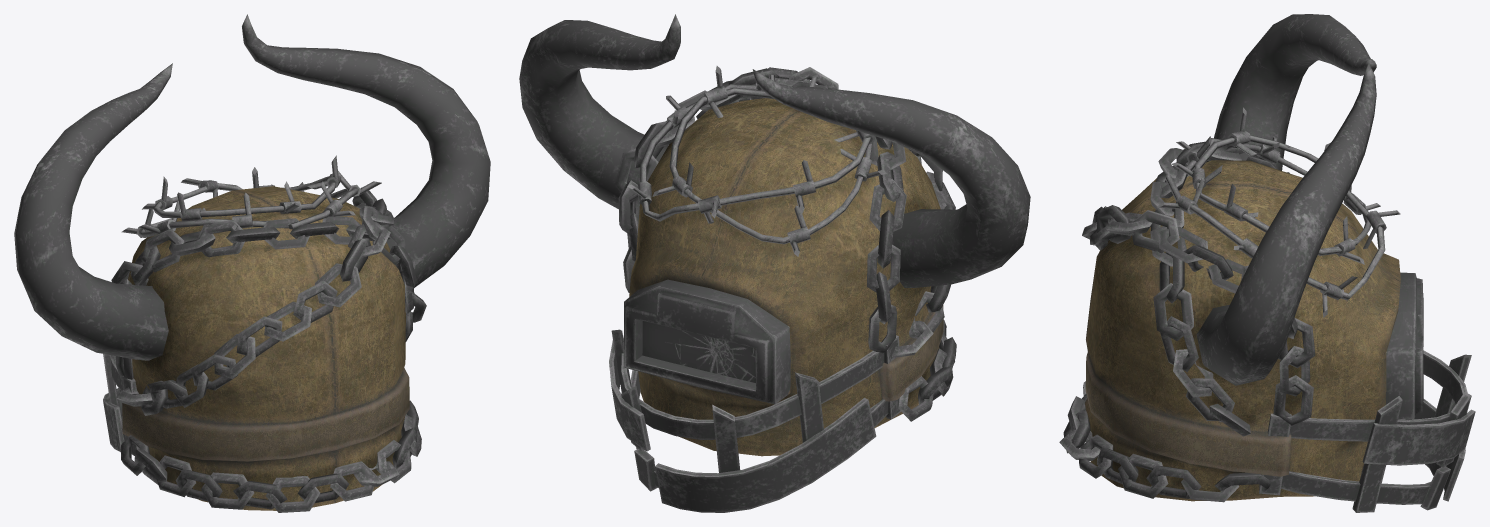
Rendered from IG_Helmat_Tagilla_Basaka.fbx.
3 views of the same model, side by side, from view 1: azimuth 30°, elevation 25°; view 2: azimuth 150°, elevation 25°; view 3: azimuth 270°, elevation 25° (orthographic). The views are drawn at different scales.
Visible parts, largest first — view 1: Helmets_Tagilla_Minotaur; view 2: Helmets_Tagilla_Minotaur; view 3: Helmets_Tagilla_Minotaur.
Part boxes in pixels (left/top/right/bottom): Helmets_Tagilla_Minotaur: left=14, top=14, right=490, bottom=512; Helmets_Tagilla_Minotaur: left=519, top=14, right=1030, bottom=512; Helmets_Tagilla_Minotaur: left=1059, top=14, right=1475, bottom=512.
Size of the model in its own units: 1.01 by 0.8707 by 0.726.
